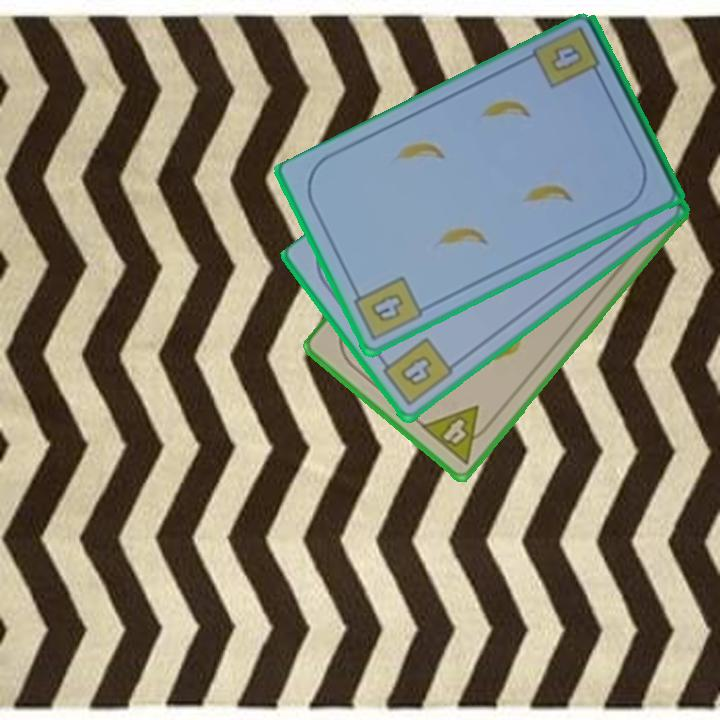4b: (375, 334, 456, 409), (348, 273, 426, 344), (546, 40, 586, 76)
4p: (417, 402, 498, 468)
